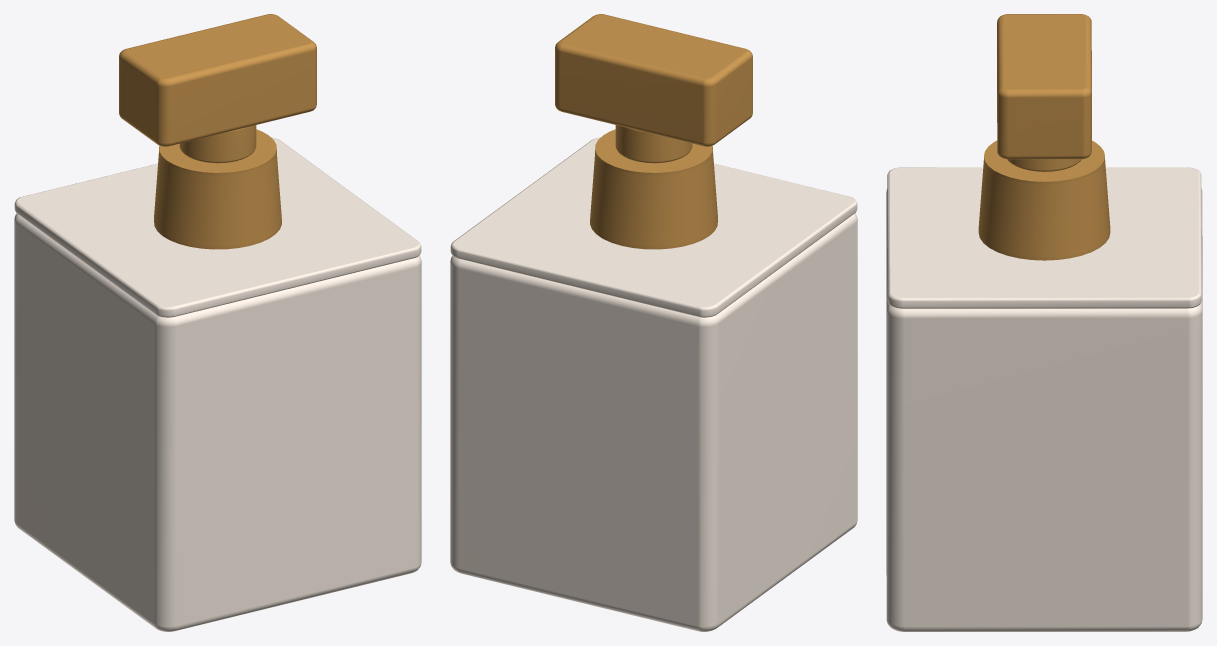
Rendered from perfume_bottle_reference.glb.
3 views of the same model, side by side, from view 1: azimuth 30°, elevation 25°; view 2: azimuth 150°, elevation 25°; view 3: azimuth 270°, elevation 25° (orthographic). The views are drawn at different scales.
Visible parts, largest first — view 1: PerfumeBottle; view 2: PerfumeBottle; view 3: PerfumeBottle.
Part boxes in pixels (bbox=[...]): PerfumeBottle: bbox=[14, 14, 421, 631]; PerfumeBottle: bbox=[450, 14, 857, 631]; PerfumeBottle: bbox=[886, 14, 1202, 631].
Bounding box in the file's own units: 0.06 × 0.108 × 0.06.
